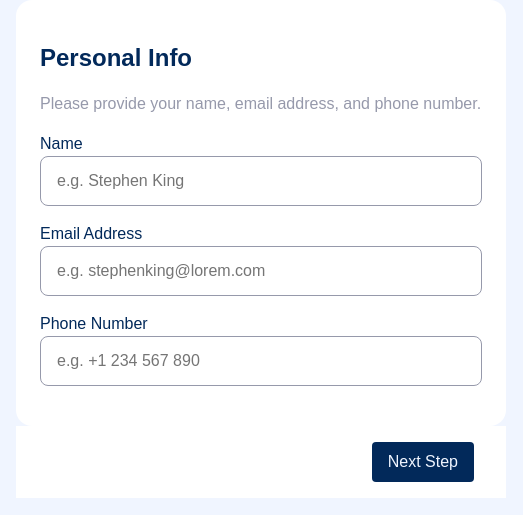
it: Step1 - Your info - validation › shows "Enter a valid email address" error when email is badly formatted
The image size is (523, 515).
Type "pawel@doingtests" into the field labelled "Email Address" at coordinates (261, 271), box [40, 246, 482, 296]
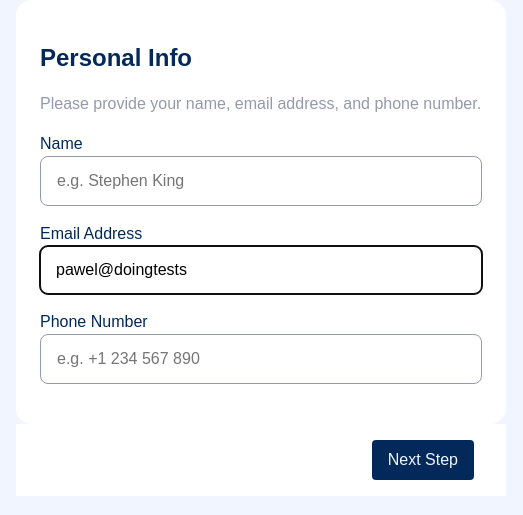
Click the button "Next Step" at coordinates (423, 460), box [372, 440, 474, 480]
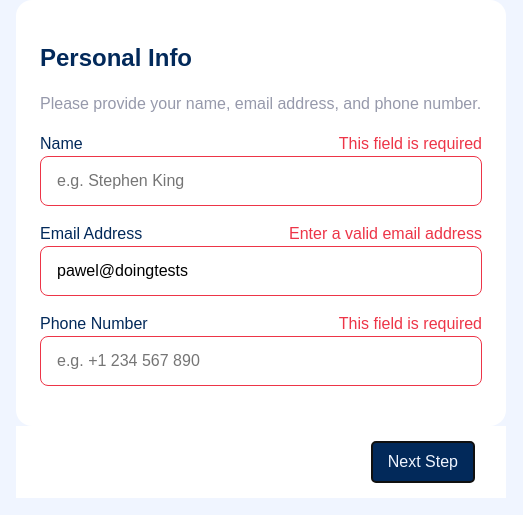
Check: the text "Enter a valid email address" is shown, box [289, 222, 482, 246]
